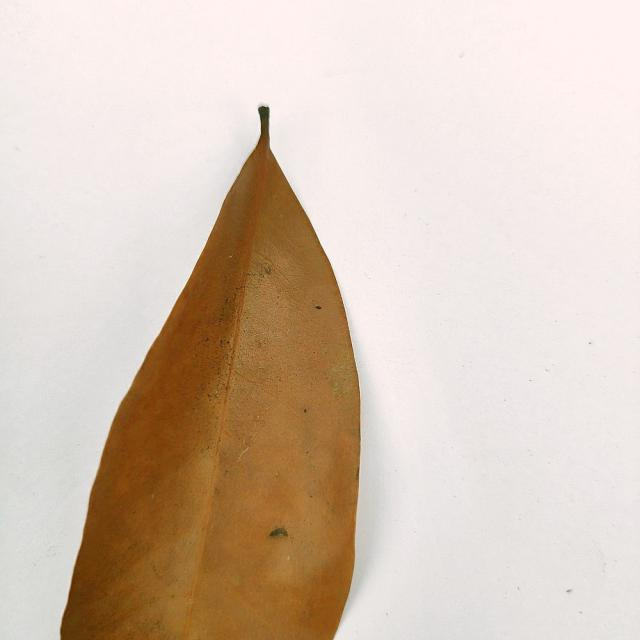Dry_Leaf-Lychee: (58, 108, 362, 639)
